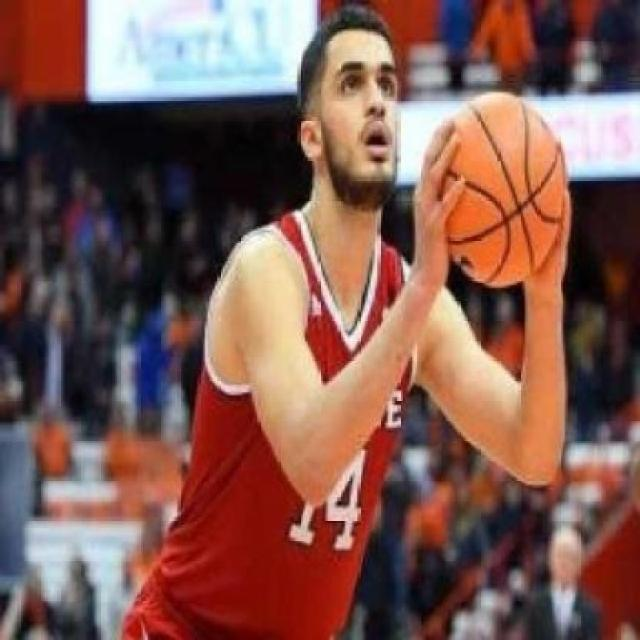basketball: (419, 87, 578, 295)
